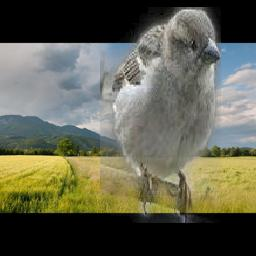Sparrow: (101, 7, 222, 223)
